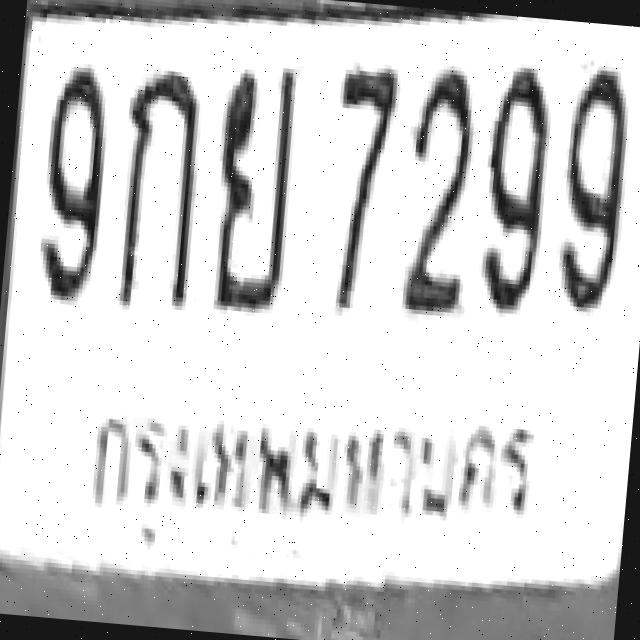10GorGai: (110, 65, 208, 312)
2: (396, 79, 478, 317)
43YorYak: (204, 58, 302, 314)
7: (319, 61, 400, 314)
9: (550, 62, 634, 316), (474, 59, 555, 318), (32, 61, 112, 306)
Bangkok: (66, 369, 546, 545)
